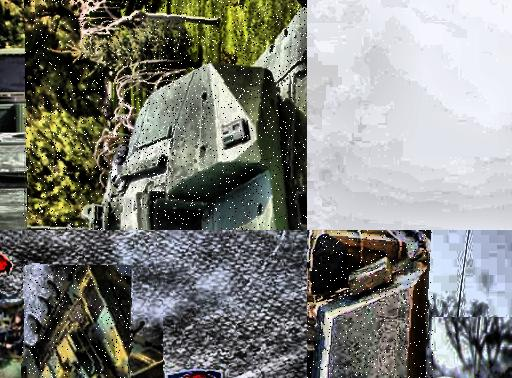tanks: (88, 9, 308, 231), (308, 231, 432, 378), (23, 267, 134, 378)
